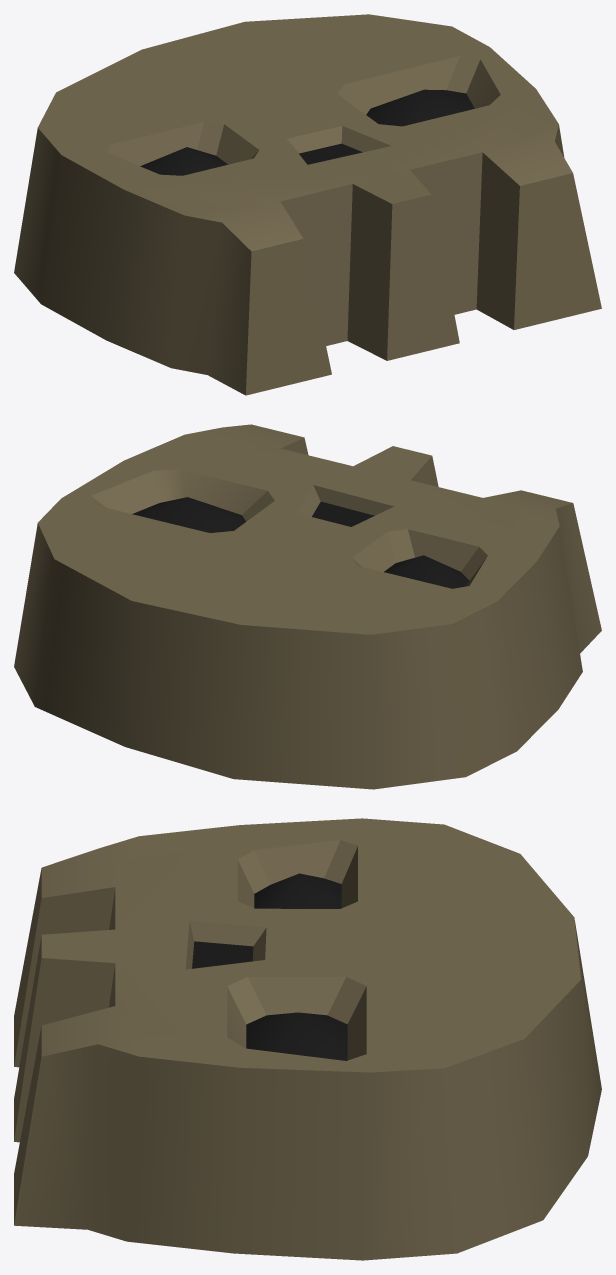
File: evilness_01_part.fbx
3 renders of one model, top to bottom at view 1: azimuth 30°, elevation 25°; view 2: azimuth 150°, elevation 25°; view 3: azimuth 270°, elevation 25°, orthographic. The views are drawn at different scales.
Visible parts, largest first — view 1: evilness_01_part_mesh; view 2: evilness_01_part_mesh; view 3: evilness_01_part_mesh.
Boxes of the visible parts, <box> form: evilness_01_part_mesh: <box>14,14,601,395</box>; evilness_01_part_mesh: <box>14,424,601,789</box>; evilness_01_part_mesh: <box>14,818,601,1260</box>.
Bounding box in the file's own units: 0.5722 × 0.1697 × 0.5086.
